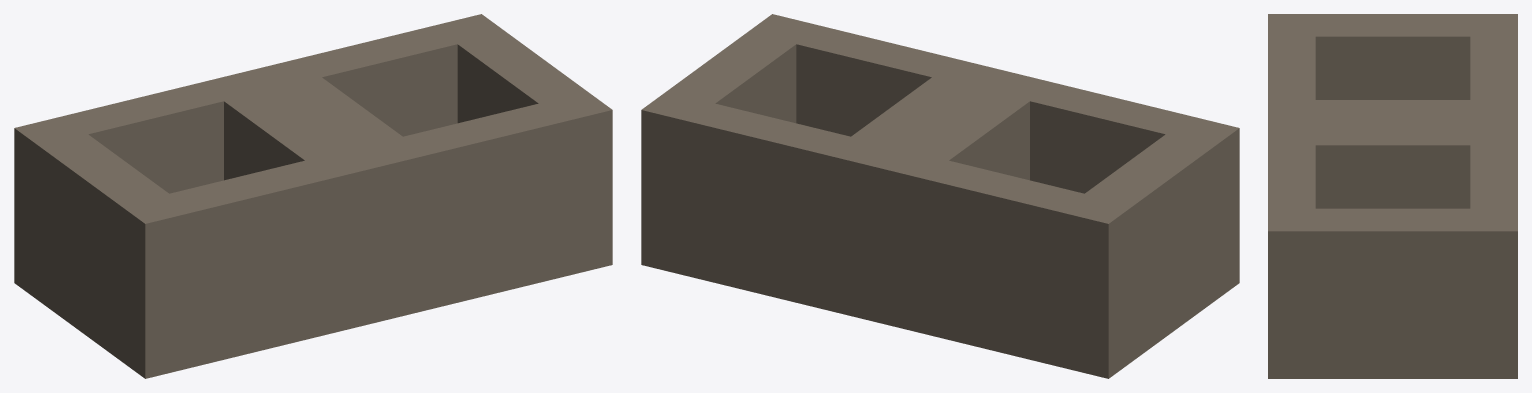
The model's file is Tijolo.fbx.
The picture shows the model from 3 angles, left to right: view 1: azimuth 30°, elevation 25°; view 2: azimuth 150°, elevation 25°; view 3: azimuth 270°, elevation 25°; orthographic projection. The views are drawn at different scales.
Parts seen in each view (by area): view 1: Tijolo; view 2: Tijolo; view 3: Tijolo.
Part boxes in pixels (left/top/right/bottom): Tijolo: left=14, top=14, right=612, bottom=378; Tijolo: left=641, top=14, right=1239, bottom=378; Tijolo: left=1268, top=14, right=1517, bottom=378.
Size of the model in its own units: 71.81 by 22.76 by 34.88.
